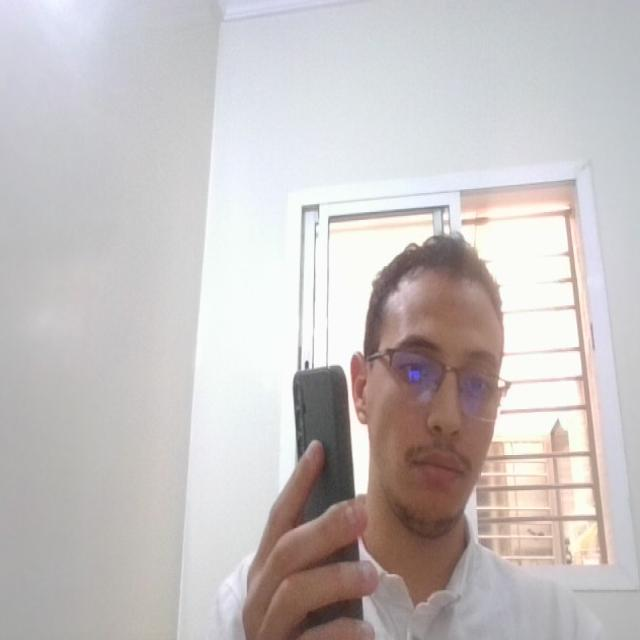phone: (284, 348, 378, 640)
